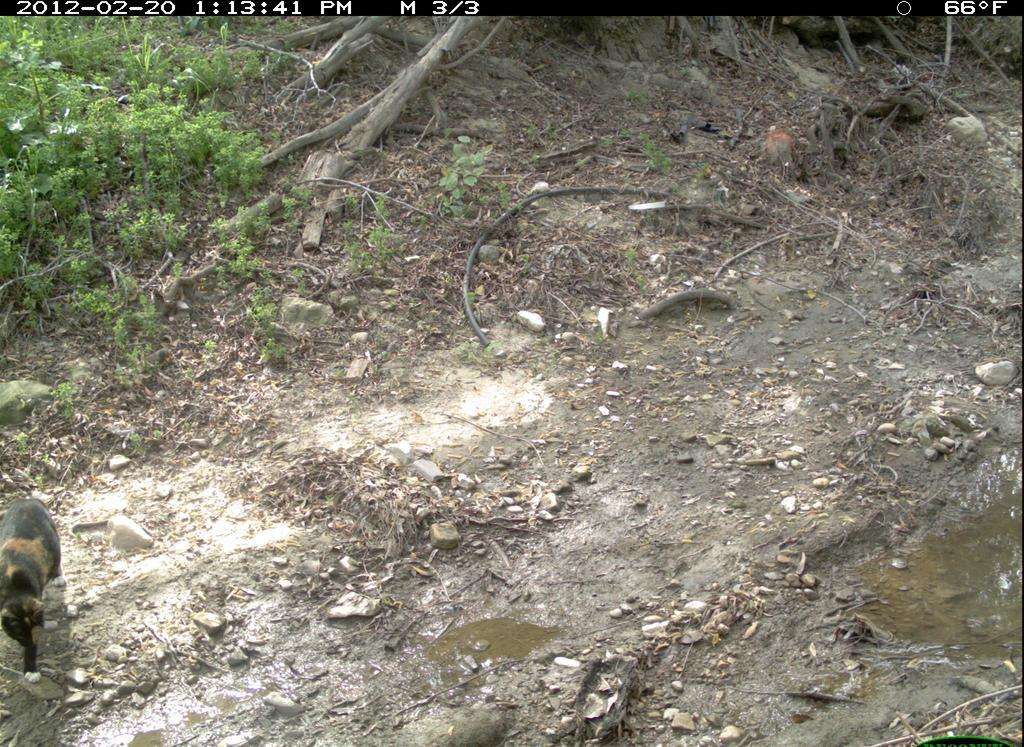cat: (1, 486, 76, 688)
